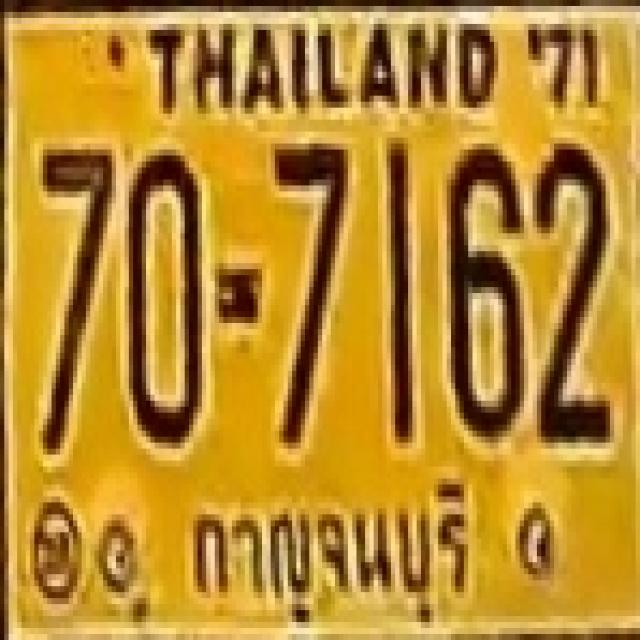0: (126, 150, 200, 442)
1: (384, 137, 410, 400)
2: (530, 140, 608, 410)
6: (446, 140, 520, 434)
7: (273, 140, 346, 434), (38, 144, 112, 430), (273, 140, 346, 386), (38, 143, 112, 365), (273, 138, 346, 335), (38, 147, 112, 326)
KRI: (176, 482, 489, 632)
